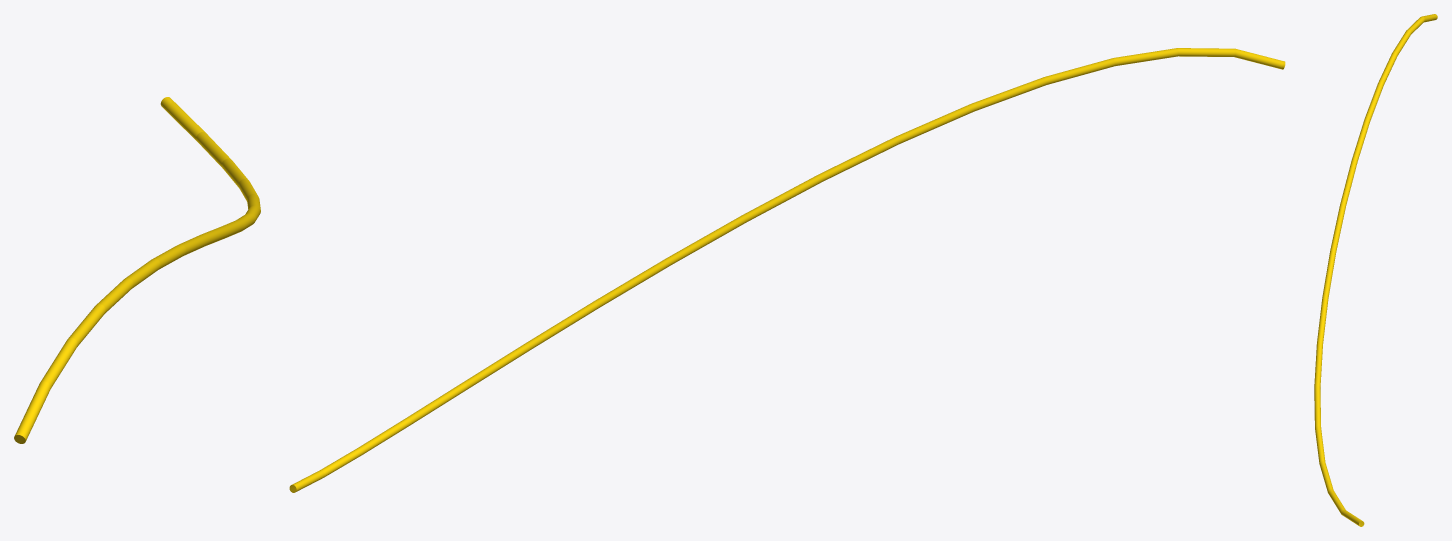
File: Event_421115418_track_102.fbx
3 views of the same model, side by side, from view 1: azimuth 90°, elevation 25°; view 2: azimuth 210°, elevation 25°; view 3: azimuth 270°, elevation 25° (orthographic). The views are drawn at different scales.
Visible parts, largest first — view 1: Model; view 2: Model; view 3: Model.
Part boxes in pixels (x1,y1,x2,y2): Model: [14, 97, 260, 443]; Model: [289, 48, 1285, 492]; Model: [1314, 14, 1437, 526].
Size of the model in its own units: 5.14 by 1.37 by 0.7909.
